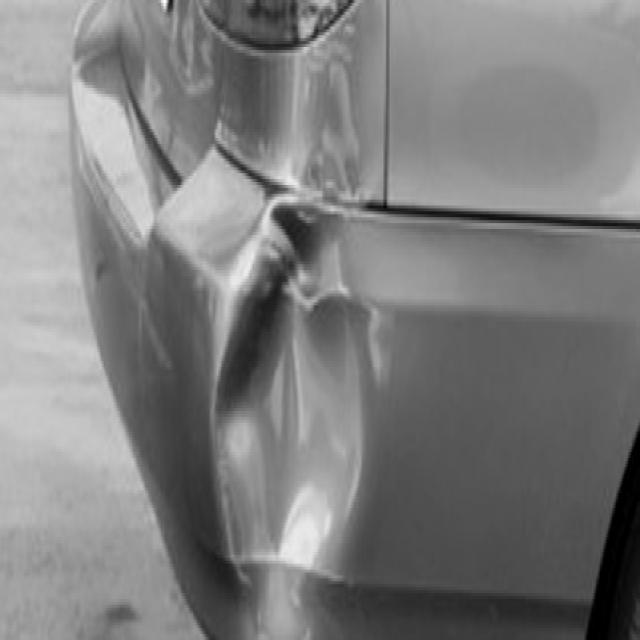dent: (214, 190, 366, 640)
scratch: (366, 302, 394, 390)
